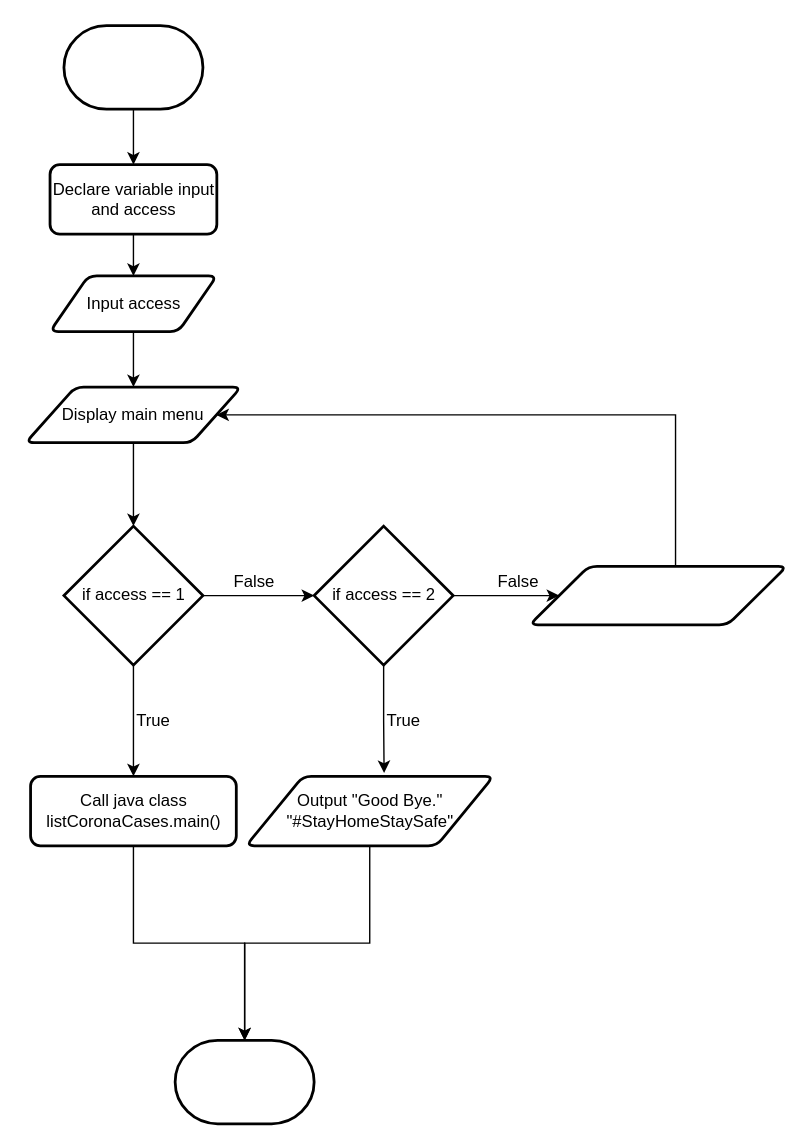
Image size: 812x1148. Some labels were removed from this diagram. Here are the shapes that lost their labels. From the top down, the centre of each, then its label:
(x=133, y=67): Start
(x=657, y=595): Output "Invalid input, please try again."
(x=244, y=1081): Stop
